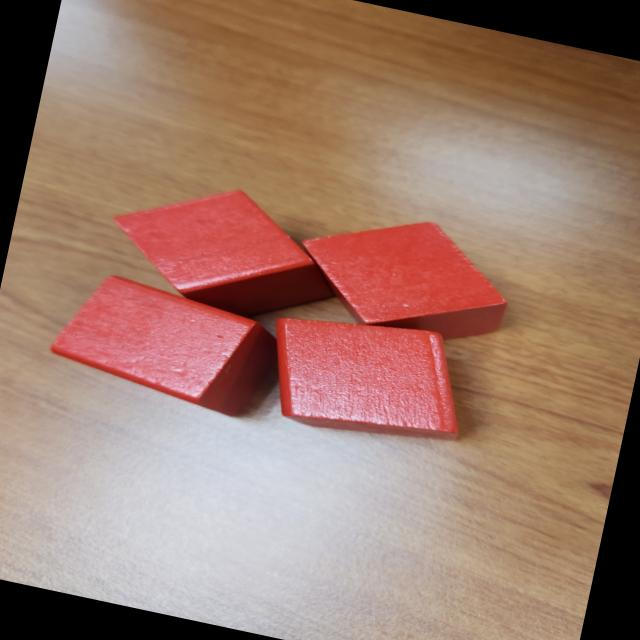red: (99, 165, 356, 335), (43, 264, 284, 424), (286, 193, 522, 353), (254, 297, 479, 457)
